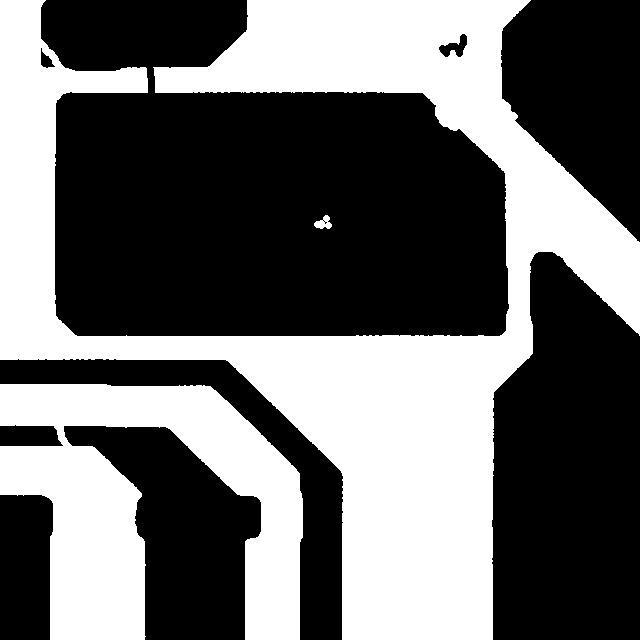copper: (429, 24, 476, 66)
mousebite: (425, 95, 468, 140), (488, 89, 527, 129)
open: (25, 27, 79, 87), (44, 413, 81, 460)
pin-hole: (304, 205, 341, 238)
short: (134, 47, 164, 109)
